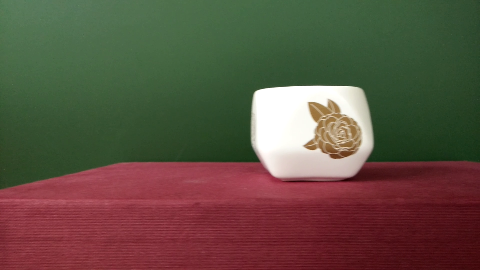flower: (292, 93, 364, 161)
